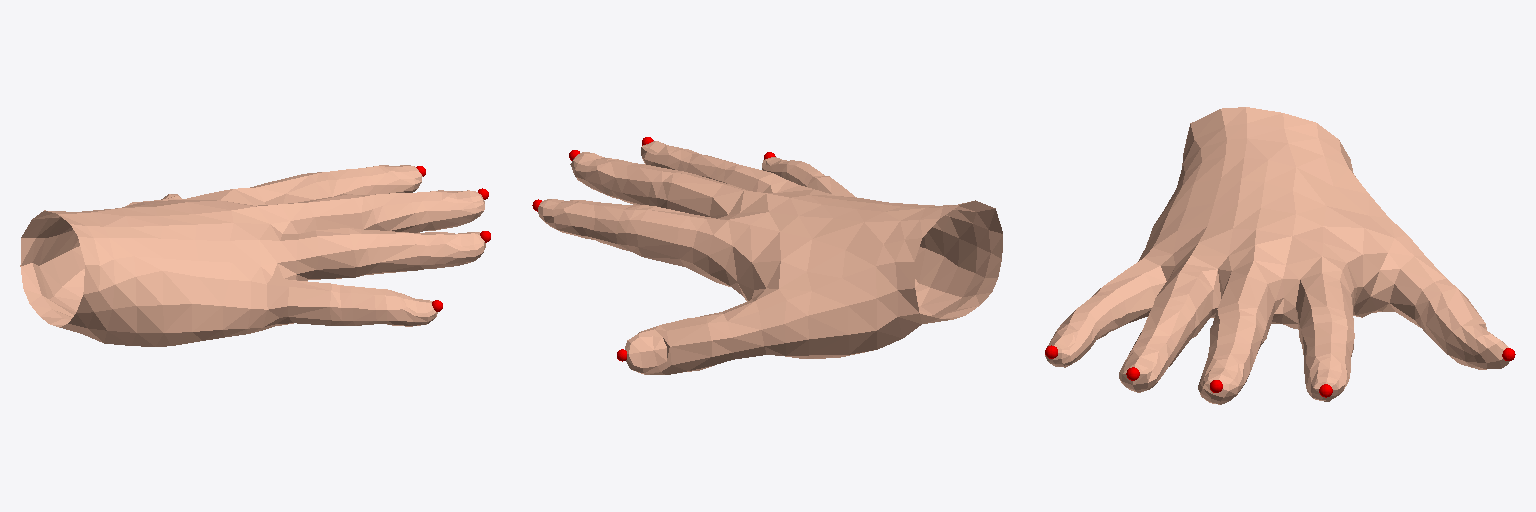
The robot description file, URDF, robot "mano_hand":
<?xml version='1.0' encoding='UTF-8'?>
<robot name="mano_hand">
  <material name="skin_color">
    <color rgba="0.95 0.75 0.65 1.0"/>
  </material>
  <material name="tip_marker_red">
    <color rgba="1.0 0.0 0.0 1.0"/>
  </material>
  <link name="base_link">
    <inertial>
      <origin xyz="0 0 0" rpy="0 0 0"/>
      <mass value="0.001"/>
      <inertia ixx="1e-6" ixy="0" ixz="0" iyy="1e-6" iyz="0" izz="1e-6"/>
    </inertial>
  </link>
  <joint name="ARTx" type="prismatic">
    <parent link="base_link"/>
    <child link="ARTx_link"/>
    <origin xyz="0 0 0" rpy="0 0 0"/>
    <axis xyz="1 0 0"/>
    <limit lower="-2.0" upper="2.0" effort="1000" velocity="100.0"/>
    <dynamics damping="1.0" friction="0.05"/>
  </joint>
  <link name="ARTx_link">
    <inertial>
      <origin xyz="0 0 0" rpy="0 0 0"/>
      <mass value="0.001"/>
      <inertia ixx="1e-6" ixy="0" ixz="0" iyy="1e-6" iyz="0" izz="1e-6"/>
    </inertial>
  </link>
  <joint name="ARTy" type="prismatic">
    <parent link="ARTx_link"/>
    <child link="ARTy_link"/>
    <origin xyz="0 0 0" rpy="0 0 0"/>
    <axis xyz="0 1 0"/>
    <limit lower="-2.0" upper="2.0" effort="1000" velocity="100.0"/>
    <dynamics damping="1.0" friction="0.05"/>
  </joint>
  <link name="ARTy_link">
    <inertial>
      <origin xyz="0 0 0" rpy="0 0 0"/>
      <mass value="0.001"/>
      <inertia ixx="1e-6" ixy="0" ixz="0" iyy="1e-6" iyz="0" izz="1e-6"/>
    </inertial>
  </link>
  <joint name="ARTz" type="prismatic">
    <parent link="ARTy_link"/>
    <child link="ARTz_link"/>
    <origin xyz="0 0 0" rpy="0 0 0"/>
    <axis xyz="0 0 1"/>
    <limit lower="-2.0" upper="2.0" effort="1000" velocity="100.0"/>
    <dynamics damping="1.0" friction="0.05"/>
  </joint>
  <link name="ARTz_link">
    <inertial>
      <origin xyz="0 0 0" rpy="0 0 0"/>
      <mass value="0.001"/>
      <inertia ixx="1e-6" ixy="0" ixz="0" iyy="1e-6" iyz="0" izz="1e-6"/>
    </inertial>
  </link>
  <joint name="ARRx" type="revolute">
    <parent link="ARTz_link"/>
    <child link="ARRx_link"/>
    <origin xyz="0 0 0" rpy="0 0 0"/>
    <axis xyz="1 0 0"/>
    <limit lower="-9.42478" upper="9.42478" effort="1000" velocity="100.0"/>
    <dynamics damping="1.0" friction="0.05"/>
  </joint>
  <link name="ARRx_link">
    <inertial>
      <origin xyz="0 0 0" rpy="0 0 0"/>
      <mass value="0.001"/>
      <inertia ixx="1e-6" ixy="0" ixz="0" iyy="1e-6" iyz="0" izz="1e-6"/>
    </inertial>
  </link>
  <joint name="ARRy" type="revolute">
    <parent link="ARRx_link"/>
    <child link="ARRy_link"/>
    <origin xyz="0 0 0" rpy="0 0 0"/>
    <axis xyz="0 1 0"/>
    <limit lower="-9.42478" upper="9.42478" effort="1000" velocity="100.0"/>
    <dynamics damping="1.0" friction="0.05"/>
  </joint>
  <link name="ARRy_link">
    <inertial>
      <origin xyz="0 0 0" rpy="0 0 0"/>
      <mass value="0.001"/>
      <inertia ixx="1e-6" ixy="0" ixz="0" iyy="1e-6" iyz="0" izz="1e-6"/>
    </inertial>
  </link>
  <joint name="ARRz" type="revolute">
    <parent link="ARRy_link"/>
    <child link="ARRz_link"/>
    <origin xyz="0 0 0" rpy="0 0 0"/>
    <axis xyz="0 0 1"/>
    <limit lower="-9.42478" upper="9.42478" effort="1000" velocity="100.0"/>
    <dynamics damping="1.0" friction="0.05"/>
  </joint>
  <link name="ARRz_link">
    <inertial>
      <origin xyz="0 0 0" rpy="0 0 0"/>
      <mass value="0.001"/>
      <inertia ixx="1e-6" ixy="0" ixz="0" iyy="1e-6" iyz="0" izz="1e-6"/>
    </inertial>
  </link>
  <joint name="palm_joint" type="fixed">
    <parent link="ARRz_link"/>
    <child link="palm"/>
    <origin xyz="0 0 0" rpy="1.5708 0 3.1416"/>
  </joint>
  <link name="palm">
    <inertial>
      <origin xyz="0 0 0" rpy="0 0 0"/>
      <mass value="0.02"/>
      <inertia ixx="1e-4" ixy="0" ixz="0" iyy="1e-4" iyz="0" izz="1e-4"/>
    </inertial>
    <visual>
      <geometry>
        <mesh filename="meshes/visual_palm.stl"/>
      </geometry>
      <material name="skin_color"/>
    </visual>
    <collision>
      <geometry>
        <mesh filename="meshes/palm.stl" scale="0.7 0.7 0.7"/>
      </geometry>
    </collision>
  </link>
  <joint name="j1_thumb_cmc_abd" type="revolute">
    <parent link="palm"/>
    <child link="thumb_cmc_abd"/>
    <origin xyz="-0.024704337 -0.016210224 0.026734162" rpy="0 0 0"/>
    <axis xyz="0.13838555 0.9562202 0.25786126"/>
    <limit lower="-1.175" upper="2.621" effort="100.0" velocity="100.0"/>
  </joint>
  <link name="thumb_cmc_abd">
    <inertial>
      <origin xyz="0 0 0" rpy="0 0 0"/>
      <mass value="0.001"/>
      <inertia ixx="1e-6" ixy="0" ixz="0" iyy="1e-6" iyz="0" izz="1e-6"/>
    </inertial>
  </link>
  <joint name="j1_thumb_cmc_flex" type="revolute">
    <parent link="thumb_cmc_abd"/>
    <child link="thumb_cmc"/>
    <origin xyz="0 0 0" rpy="0 0 0"/>
    <axis xyz="0.983308 -0.16371469 0.079390295"/>
    <limit lower="-2.0" upper="1.97" effort="100.0" velocity="100.0"/>
  </joint>
  <link name="thumb_cmc">
    <inertial>
      <origin xyz="0 0 0" rpy="0 0 0"/>
      <mass value="0.01"/>
      <inertia ixx="1e-5" ixy="0" ixz="0" iyy="1e-5" iyz="0" izz="1e-5"/>
    </inertial>
    <visual>
      <geometry>
        <mesh filename="meshes/visual_thumb1.stl"/>
      </geometry>
      <material name="skin_color"/>
    </visual>
    <collision>
      <geometry>
        <mesh filename="meshes/thumb1.stl"/>
      </geometry>
    </collision>
  </link>
  <joint name="j1_thumb_mcp" type="revolute">
    <parent link="thumb_cmc"/>
    <child link="thumb_mcp"/>
    <origin xyz="-0.019956052 0.0012230668 0.024574935" rpy="0 0 0"/>
    <axis xyz="0.3696764961742894 -0.8790410143977759 0.30104182962311027"/>
    <limit lower="0.0" upper="1.745" effort="100.0" velocity="100.0"/>
  </joint>
  <link name="thumb_mcp">
    <inertial>
      <origin xyz="0 0 0" rpy="0 0 0"/>
      <mass value="0.01"/>
      <inertia ixx="1e-5" ixy="0" ixz="0" iyy="1e-5" iyz="0" izz="1e-5"/>
    </inertial>
    <visual>
      <geometry>
        <mesh filename="meshes/visual_thumb2.stl"/>
      </geometry>
      <material name="skin_color"/>
    </visual>
    <collision>
      <geometry>
        <mesh filename="meshes/thumb2.stl"/>
      </geometry>
    </collision>
  </link>
  <joint name="j1_thumb_ip" type="revolute">
    <parent link="thumb_mcp"/>
    <child link="thumb_ip"/>
    <origin xyz="-0.022728207 -0.005675003 0.014841288" rpy="0 0 0"/>
    <axis xyz="0.3696764961742894 -0.8790410143977759 0.30104182962311027"/>
    <limit lower="0.0" upper="1.745" effort="100.0" velocity="100.0"/>
  </joint>
  <link name="thumb_ip">
    <inertial>
      <origin xyz="0 0 0" rpy="0 0 0"/>
      <mass value="0.01"/>
      <inertia ixx="1e-5" ixy="0" ixz="0" iyy="1e-5" iyz="0" izz="1e-5"/>
    </inertial>
    <visual>
      <geometry>
        <mesh filename="meshes/visual_thumb3.stl"/>
      </geometry>
      <material name="skin_color"/>
    </visual>
    <visual>
      <origin xyz="-0.0266503338 -0.00300316978 0.024490267" rpy="0 0 0"/>
      <geometry>
        <sphere radius="0.0025"/>
      </geometry>
      <material name="tip_marker_red"/>
    </visual>
    <collision>
      <geometry>
        <mesh filename="meshes/thumb3.stl"/>
      </geometry>
    </collision>
  </link>
  <joint name="j2_index_mcp_abd" type="revolute">
    <parent link="palm"/>
    <child link="index_mcp_abd"/>
    <origin xyz="-0.090581894 -0.005242019 0.021415342" rpy="0 0 0"/>
    <axis xyz="0.06169546571417974 -0.9980950202812909 0.0"/>
    <limit lower="-0.349" upper="0.349" effort="100.0" velocity="100.0"/>
  </joint>
  <link name="index_mcp_abd">
    <inertial>
      <origin xyz="0 0 0" rpy="0 0 0"/>
      <mass value="0.001"/>
      <inertia ixx="1e-6" ixy="0" ixz="0" iyy="1e-6" iyz="0" izz="1e-6"/>
    </inertial>
  </link>
  <joint name="j2_index_mcp_flex" type="revolute">
    <parent link="index_mcp_abd"/>
    <child link="index_mcp"/>
    <origin xyz="0 0 0" rpy="0 0 0"/>
    <axis xyz="-0.007558444811776876 -0.0004672118017441641 0.9999713254014635"/>
    <limit lower="-0.175" upper="1.571" effort="100.0" velocity="100.0"/>
  </joint>
  <link name="index_mcp">
    <inertial>
      <origin xyz="0 0 0" rpy="0 0 0"/>
      <mass value="0.01"/>
      <inertia ixx="1e-5" ixy="0" ixz="0" iyy="1e-5" iyz="0" izz="1e-5"/>
    </inertial>
    <visual>
      <geometry>
        <mesh filename="meshes/visual_index1.stl"/>
      </geometry>
      <material name="skin_color"/>
    </visual>
    <collision>
      <geometry>
        <mesh filename="meshes/index1.stl"/>
      </geometry>
    </collision>
  </link>
  <joint name="j2_index_pip" type="revolute">
    <parent link="index_mcp"/>
    <child link="index_pip"/>
    <origin xyz="-0.033410028 0.003950998 0.0023879502" rpy="0 0 0"/>
    <axis xyz="-0.007558444811776876 -0.0004672118017441641 0.9999713254014635"/>
    <limit lower="0.0" upper="1.745" effort="100.0" velocity="100.0"/>
  </joint>
  <link name="index_pip">
    <inertial>
      <origin xyz="0 0 0" rpy="0 0 0"/>
      <mass value="0.01"/>
      <inertia ixx="1e-5" ixy="0" ixz="0" iyy="1e-5" iyz="0" izz="1e-5"/>
    </inertial>
    <visual>
      <geometry>
        <mesh filename="meshes/visual_index2.stl"/>
      </geometry>
      <material name="skin_color"/>
    </visual>
    <collision>
      <geometry>
        <mesh filename="meshes/index2.stl"/>
      </geometry>
    </collision>
  </link>
  <joint name="j2_index_dip" type="revolute">
    <parent link="index_pip"/>
    <child link="index_dip"/>
    <origin xyz="-0.022654548 -0.0014003506 -0.00017189234" rpy="0 0 0"/>
    <axis xyz="-0.007558444811776876 -0.0004672118017441641 0.9999713254014635"/>
    <limit lower="0.0" upper="1.745" effort="100.0" velocity="100.0"/>
  </joint>
  <link name="index_dip">
    <inertial>
      <origin xyz="0 0 0" rpy="0 0 0"/>
      <mass value="0.01"/>
      <inertia ixx="1e-5" ixy="0" ixz="0" iyy="1e-5" iyz="0" izz="1e-5"/>
    </inertial>
    <visual>
      <geometry>
        <mesh filename="meshes/visual_index3.stl"/>
      </geometry>
      <material name="skin_color"/>
    </visual>
    <visual>
      <origin xyz="-0.0260559991 0.000962143298 -0.000523928553" rpy="0 0 0"/>
      <geometry>
        <sphere radius="0.0025"/>
      </geometry>
      <material name="tip_marker_red"/>
    </visual>
    <collision>
      <geometry>
        <mesh filename="meshes/index3.stl"/>
      </geometry>
    </collision>
  </link>
  <joint name="j3_middle_mcp_abd" type="revolute">
    <parent link="palm"/>
    <child link="middle_mcp_abd"/>
    <origin xyz="-0.09728893 -0.0013957052 -0.0034511324" rpy="0 0 0"/>
    <axis xyz="0.059278645 -0.9980696 -0.018527148"/>
    <limit lower="-0.524" upper="0.349" effort="100.0" velocity="100.0"/>
  </joint>
  <link name="middle_mcp_abd">
    <inertial>
      <origin xyz="0 0 0" rpy="0 0 0"/>
      <mass value="0.001"/>
      <inertia ixx="1e-6" ixy="0" ixz="0" iyy="1e-6" iyz="0" izz="1e-6"/>
    </inertial>
  </link>
  <joint name="j3_middle_mcp_flex" type="revolute">
    <parent link="middle_mcp_abd"/>
    <child link="middle_mcp"/>
    <origin xyz="0 0 0" rpy="0 0 0"/>
    <axis xyz="-0.16968592 -0.028364412 0.9850899"/>
    <limit lower="-0.175" upper="1.571" effort="100.0" velocity="100.0"/>
  </joint>
  <link name="middle_mcp">
    <inertial>
      <origin xyz="0 0 0" rpy="0 0 0"/>
      <mass value="0.01"/>
      <inertia ixx="1e-5" ixy="0" ixz="0" iyy="1e-5" iyz="0" izz="1e-5"/>
    </inertial>
    <visual>
      <geometry>
        <mesh filename="meshes/visual_middle1.stl"/>
      </geometry>
      <material name="skin_color"/>
    </visual>
    <collision>
      <geometry>
        <mesh filename="meshes/middle1.stl"/>
      </geometry>
    </collision>
  </link>
  <joint name="j3_middle_pip" type="revolute">
    <parent link="middle_mcp"/>
    <child link="middle_pip"/>
    <origin xyz="-0.03190594 0.0017434433 -0.0056828456" rpy="0 0 0"/>
    <axis xyz="-0.16968592 -0.028364412 0.9850899"/>
    <limit lower="0.0" upper="1.745" effort="100.0" velocity="100.0"/>
  </joint>
  <link name="middle_pip">
    <inertial>
      <origin xyz="0 0 0" rpy="0 0 0"/>
      <mass value="0.01"/>
      <inertia ixx="1e-5" ixy="0" ixz="0" iyy="1e-5" iyz="0" izz="1e-5"/>
    </inertial>
    <visual>
      <geometry>
        <mesh filename="meshes/visual_middle2.stl"/>
      </geometry>
      <material name="skin_color"/>
    </visual>
    <collision>
      <geometry>
        <mesh filename="meshes/middle2.stl"/>
      </geometry>
    </collision>
  </link>
  <joint name="j3_middle_dip" type="revolute">
    <parent link="middle_pip"/>
    <child link="middle_dip"/>
    <origin xyz="-0.023432396 -0.0013160976 -0.004074225" rpy="0 0 0"/>
    <axis xyz="-0.16968592 -0.028364412 0.9850899"/>
    <limit lower="0.0" upper="1.745" effort="100.0" velocity="100.0"/>
  </joint>
  <link name="middle_dip">
    <inertial>
      <origin xyz="0 0 0" rpy="0 0 0"/>
      <mass value="0.01"/>
      <inertia ixx="1e-5" ixy="0" ixz="0" iyy="1e-5" iyz="0" izz="1e-5"/>
    </inertial>
    <visual>
      <geometry>
        <mesh filename="meshes/visual_middle3.stl"/>
      </geometry>
      <material name="skin_color"/>
    </visual>
    <visual>
      <origin xyz="-0.0262673721 0.00392890908 -0.00421216711" rpy="0 0 0"/>
      <geometry>
        <sphere radius="0.0025"/>
      </geometry>
      <material name="tip_marker_red"/>
    </visual>
    <collision>
      <geometry>
        <mesh filename="meshes/middle3.stl"/>
      </geometry>
    </collision>
  </link>
  <joint name="j4_ring_mcp_abd" type="revolute">
    <parent link="palm"/>
    <child link="ring_mcp_abd"/>
    <origin xyz="-0.08392644 -0.0039365464 -0.027616814" rpy="0 0 0"/>
    <axis xyz="0.034989137 -0.99171275 0.12361856"/>
    <limit lower="-0.524" upper="0.349" effort="100.0" velocity="100.0"/>
  </joint>
  <link name="ring_mcp_abd">
    <inertial>
      <origin xyz="0 0 0" rpy="0 0 0"/>
      <mass value="0.001"/>
      <inertia ixx="1e-6" ixy="0" ixz="0" iyy="1e-6" iyz="0" izz="1e-6"/>
    </inertial>
  </link>
  <joint name="j4_ring_mcp_flex" type="revolute">
    <parent link="ring_mcp_abd"/>
    <child link="ring_mcp"/>
    <origin xyz="0 0 0" rpy="0 0 0"/>
    <axis xyz="-0.31276193 0.10661506 0.94382906"/>
    <limit lower="-0.175" upper="1.571" effort="100.0" velocity="100.0"/>
  </joint>
  <link name="ring_mcp">
    <inertial>
      <origin xyz="0 0 0" rpy="0 0 0"/>
      <mass value="0.01"/>
      <inertia ixx="1e-5" ixy="0" ixz="0" iyy="1e-5" iyz="0" izz="1e-5"/>
    </inertial>
    <visual>
      <geometry>
        <mesh filename="meshes/visual_ring1.stl"/>
      </geometry>
      <material name="skin_color"/>
    </visual>
    <collision>
      <geometry>
        <mesh filename="meshes/ring1.stl"/>
      </geometry>
    </collision>
  </link>
  <joint name="j4_ring_pip" type="revolute">
    <parent link="ring_mcp"/>
    <child link="ring_pip"/>
    <origin xyz="-0.029146705 0.0021442156 -0.0052470285" rpy="0 0 0"/>
    <axis xyz="-0.31276193 0.10661506 0.94382906"/>
    <limit lower="0.0" upper="1.745" effort="100.0" velocity="100.0"/>
  </joint>
  <link name="ring_pip">
    <inertial>
      <origin xyz="0 0 0" rpy="0 0 0"/>
      <mass value="0.01"/>
      <inertia ixx="1e-5" ixy="0" ixz="0" iyy="1e-5" iyz="0" izz="1e-5"/>
    </inertial>
    <visual>
      <geometry>
        <mesh filename="meshes/visual_ring2.stl"/>
      </geometry>
      <material name="skin_color"/>
    </visual>
    <collision>
      <geometry>
        <mesh filename="meshes/ring2.stl"/>
      </geometry>
    </collision>
  </link>
  <joint name="j4_ring_dip" type="revolute">
    <parent link="ring_pip"/>
    <child link="ring_dip"/>
    <origin xyz="-0.024165627 -0.0018250989 -0.007801736" rpy="0 0 0"/>
    <axis xyz="-0.31276193 0.10661506 0.94382906"/>
    <limit lower="0.0" upper="1.745" effort="100.0" velocity="100.0"/>
  </joint>
  <link name="ring_dip">
    <inertial>
      <origin xyz="0 0 0" rpy="0 0 0"/>
      <mass value="0.01"/>
      <inertia ixx="1e-5" ixy="0" ixz="0" iyy="1e-5" iyz="0" izz="1e-5"/>
    </inertial>
    <visual>
      <geometry>
        <mesh filename="meshes/visual_ring3.stl"/>
      </geometry>
      <material name="skin_color"/>
    </visual>
    <visual>
      <origin xyz="-0.0250933915 0.00388110615 -0.00751077384" rpy="0 0 0"/>
      <geometry>
        <sphere radius="0.0025"/>
      </geometry>
      <material name="tip_marker_red"/>
    </visual>
    <collision>
      <geometry>
        <mesh filename="meshes/ring3.stl"/>
      </geometry>
    </collision>
  </link>
  <joint name="j5_pinky_mcp_abd" type="revolute">
    <parent link="palm"/>
    <child link="pinky_mcp_abd"/>
    <origin xyz="-0.07055995 -0.010242537 -0.044679318" rpy="0 0 0"/>
    <axis xyz="-0.12182914 -0.95824164 0.25870967"/>
    <limit lower="-0.698" upper="0.349" effort="100.0" velocity="100.0"/>
  </joint>
  <link name="pinky_mcp_abd">
    <inertial>
      <origin xyz="0 0 0" rpy="0 0 0"/>
      <mass value="0.001"/>
      <inertia ixx="1e-6" ixy="0" ixz="0" iyy="1e-6" iyz="0" izz="1e-6"/>
    </inertial>
  </link>
  <joint name="j5_pinky_mcp_flex" type="revolute">
    <parent link="pinky_mcp_abd"/>
    <child link="pinky_mcp"/>
    <origin xyz="0 0 0" rpy="0 0 0"/>
    <axis xyz="-0.5263179 0.28335696 0.8016847"/>
    <limit lower="-0.175" upper="1.571" effort="100.0" velocity="100.0"/>
  </joint>
  <link name="pinky_mcp">
    <inertial>
      <origin xyz="0 0 0" rpy="0 0 0"/>
      <mass value="0.01"/>
      <inertia ixx="1e-5" ixy="0" ixz="0" iyy="1e-5" iyz="0" izz="1e-5"/>
    </inertial>
    <visual>
      <geometry>
        <mesh filename="meshes/visual_pinky1.stl"/>
      </geometry>
      <material name="skin_color"/>
    </visual>
    <collision>
      <geometry>
        <mesh filename="meshes/pinky1.stl"/>
      </geometry>
    </collision>
  </link>
  <joint name="j5_pinky_pip" type="revolute">
    <parent link="pinky_mcp"/>
    <child link="pinky_pip"/>
    <origin xyz="-0.0175782 -8.22742e-05 -0.012755204" rpy="0 0 0"/>
    <axis xyz="-0.5263179 0.28335696 0.8016847"/>
    <limit lower="0.0" upper="1.745" effort="100.0" velocity="100.0"/>
  </joint>
  <link name="pinky_pip">
    <inertial>
      <origin xyz="0 0 0" rpy="0 0 0"/>
      <mass value="0.01"/>
      <inertia ixx="1e-5" ixy="0" ixz="0" iyy="1e-5" iyz="0" izz="1e-5"/>
    </inertial>
    <visual>
      <geometry>
        <mesh filename="meshes/visual_pinky2.stl"/>
      </geometry>
      <material name="skin_color"/>
    </visual>
    <collision>
      <geometry>
        <mesh filename="meshes/pinky2.stl"/>
      </geometry>
    </collision>
  </link>
  <joint name="j5_pinky_dip" type="revolute">
    <parent link="pinky_pip"/>
    <child link="pinky_dip"/>
    <origin xyz="-0.016409367 -0.0007506439 -0.010507677" rpy="0 0 0"/>
    <axis xyz="-0.5263179 0.28335696 0.8016847"/>
    <limit lower="0.0" upper="1.745" effort="100.0" velocity="100.0"/>
  </joint>
  <link name="pinky_dip">
    <inertial>
      <origin xyz="0 0 0" rpy="0 0 0"/>
      <mass value="0.01"/>
      <inertia ixx="1e-5" ixy="0" ixz="0" iyy="1e-5" iyz="0" izz="1e-5"/>
    </inertial>
    <visual>
      <geometry>
        <mesh filename="meshes/visual_pinky3.stl"/>
      </geometry>
      <material name="skin_color"/>
    </visual>
    <visual>
      <origin xyz="-0.0176626015 0.0015621502 -0.0103372633" rpy="0 0 0"/>
      <geometry>
        <sphere radius="0.0025"/>
      </geometry>
      <material name="tip_marker_red"/>
    </visual>
    <collision>
      <geometry>
        <mesh filename="meshes/pinky3.stl"/>
      </geometry>
    </collision>
  </link>
</robot>

--- Render facts (derived) ---
The picture shows the robot from 3 angles, left to right: view 1: azimuth 30°, elevation 25°; view 2: azimuth 150°, elevation 25°; view 3: azimuth 270°, elevation 25°; orthographic projection.
Model mano_hand with 28 links and 27 joints (23 revolute, 3 prismatic, 1 fixed), rooted at base_link, posed all joints at 0.
Visible links, largest first — view 1: palm, ring_mcp, pinky_mcp, middle_mcp, ring_pip, thumb_cmc, middle_dip, middle_pip, ring_dip, pinky_pip, index_mcp, pinky_dip (+2 smaller); view 2: palm, thumb_cmc, thumb_mcp, thumb_ip, index_mcp, middle_mcp, index_pip, middle_dip, middle_pip, index_dip, ring_mcp, ring_dip (+2 smaller); view 3: palm, thumb_ip, thumb_mcp, middle_mcp, index_mcp, ring_mcp, middle_dip, index_dip, ring_pip, ring_dip, pinky_mcp, pinky_dip (+3 smaller).
Link boxes in pixels (box(x1,y1,x2,y2)): palm: box(20, 188, 297, 346); ring_mcp: box(278, 228, 366, 280); pinky_mcp: box(267, 277, 343, 325); middle_mcp: box(280, 194, 382, 233); ring_pip: box(357, 229, 432, 276); thumb_cmc: box(39, 224, 84, 310); middle_dip: box(415, 188, 488, 230); middle_pip: box(373, 193, 430, 232); ring_dip: box(423, 231, 490, 268); pinky_pip: box(333, 284, 398, 325); index_mcp: box(250, 173, 331, 204); pinky_dip: box(385, 290, 442, 326); palm: box(693, 185, 1002, 349); thumb_cmc: box(779, 272, 876, 358); thumb_mcp: box(706, 288, 786, 364); thumb_ip: box(617, 315, 714, 374); index_mcp: box(626, 205, 715, 273); middle_mcp: box(648, 171, 747, 218); index_pip: box(581, 202, 641, 251); middle_dip: box(569, 150, 633, 198); middle_pip: box(607, 163, 677, 205); index_dip: box(532, 199, 598, 238); ring_mcp: box(723, 164, 798, 192); ring_dip: box(641, 137, 698, 169); palm: box(1130, 107, 1394, 328); thumb_ip: box(1420, 288, 1515, 369); thumb_mcp: box(1371, 235, 1456, 333); middle_mcp: box(1211, 261, 1294, 344); index_mcp: box(1284, 270, 1353, 343); ring_mcp: box(1153, 255, 1222, 337); middle_dip: box(1198, 342, 1251, 404); index_dip: box(1304, 342, 1350, 401); ring_pip: box(1133, 299, 1195, 366); ring_dip: box(1119, 336, 1171, 392); pinky_mcp: box(1092, 266, 1165, 330); pinky_dip: box(1045, 315, 1095, 367).
Bounding box of the posed robot: 0.2005 × 0.1741 × 0.0634 m (x, y, z).
Meshes: 16 distinct files referenced, 16 mesh visuals loaded (16 binary STL).
